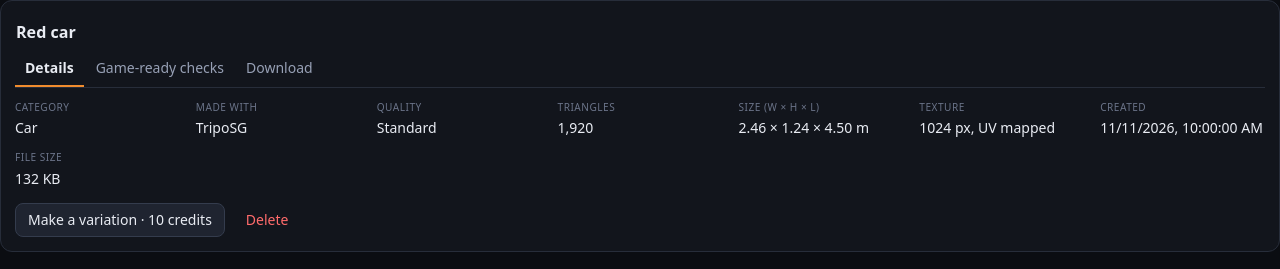
Test: AssetPanel › deletes only after a second, explicit confirmation
Later steps or results of the test are not shown.
Click the button "Delete": (267, 220) top-left (233, 202), bottom-right (302, 237)
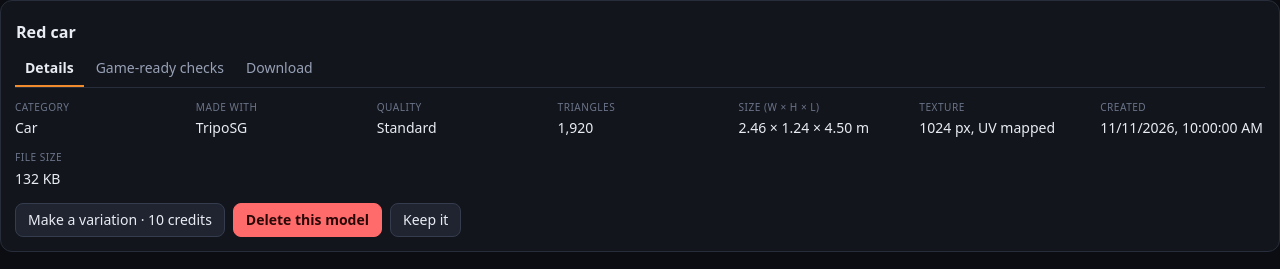
Click the button "Keep it": (426, 220) top-left (390, 202), bottom-right (461, 237)
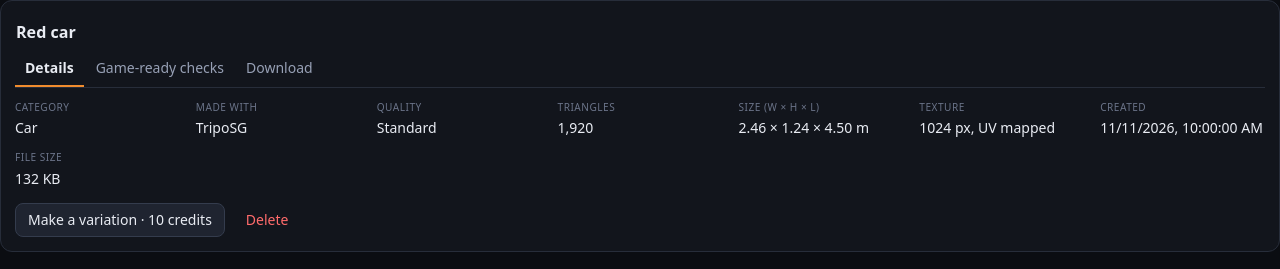
expect the button "Delete this model" is gone: met
